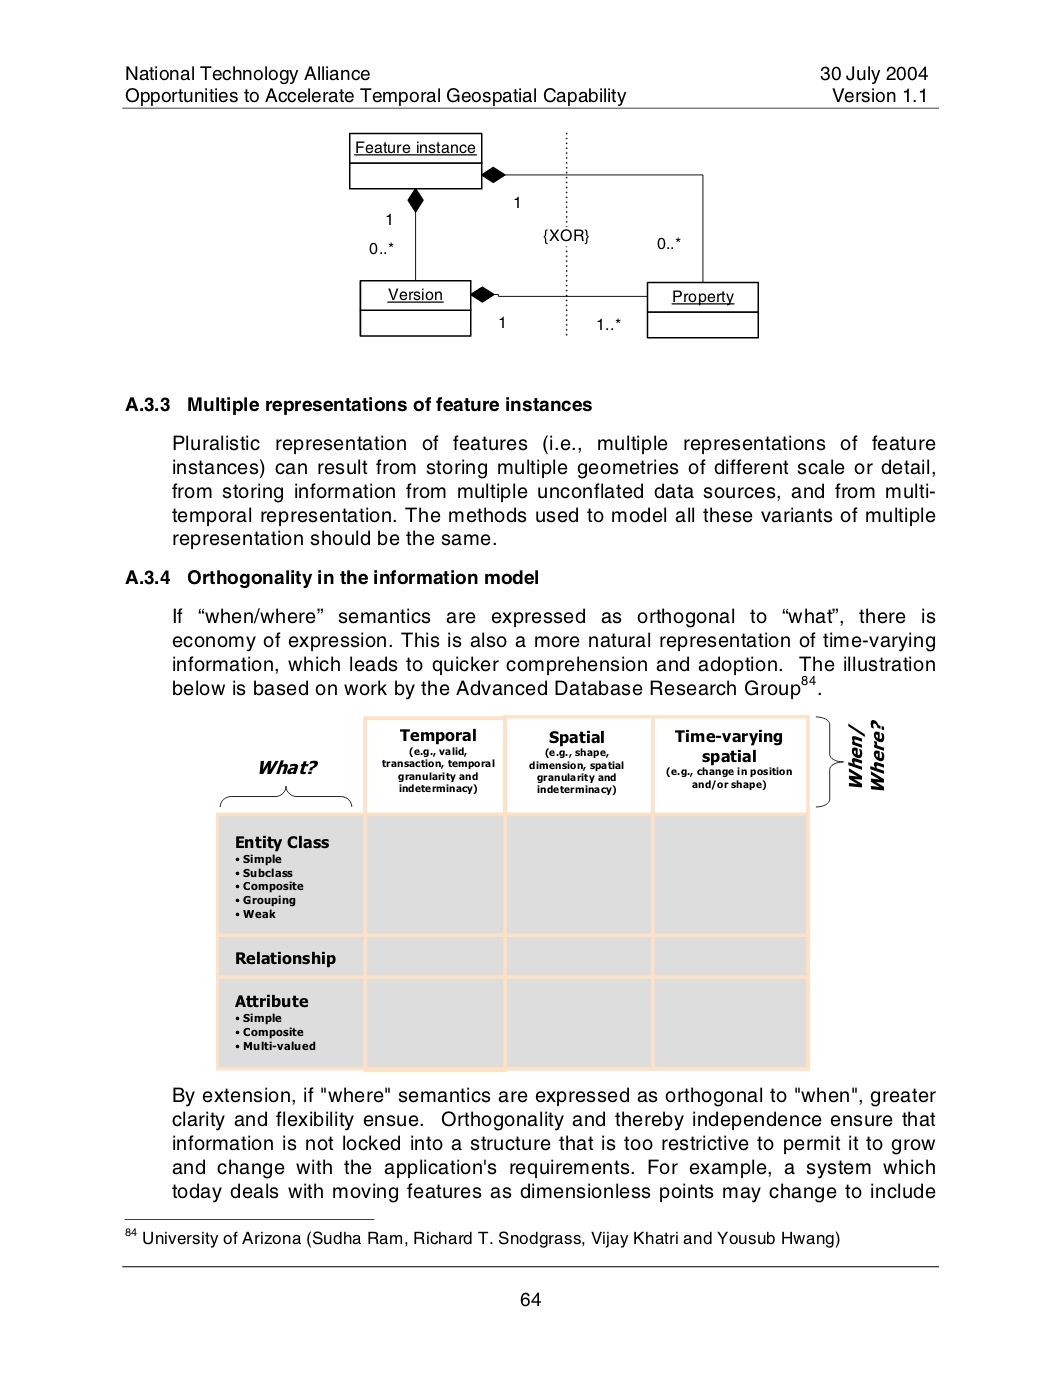Table: (216, 714, 884, 1072)
figure: (349, 132, 758, 339)
